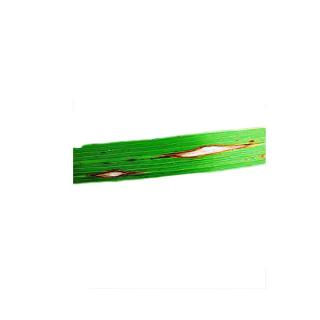Blast: (161, 136, 257, 164), (84, 162, 141, 182)
